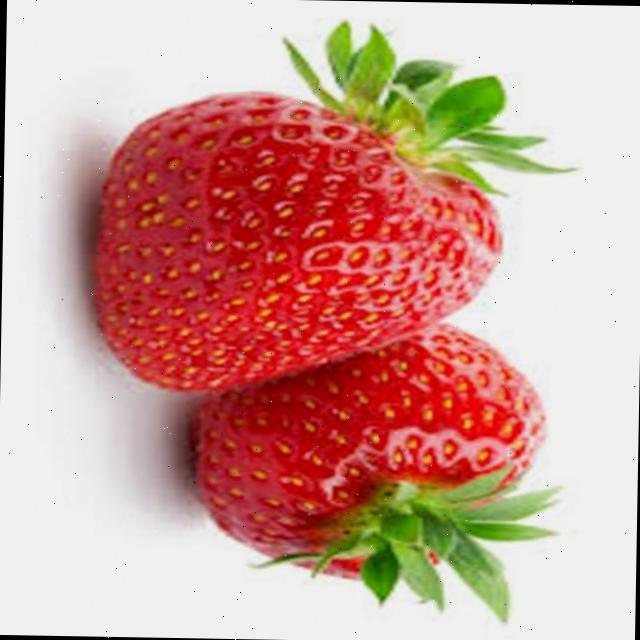strawberry: (95, 23, 568, 390), (191, 325, 553, 620)
